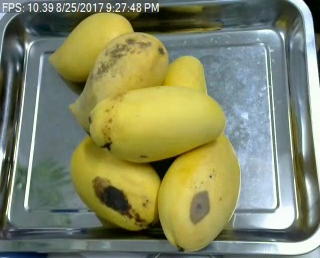Mango: (153, 128, 242, 253), (86, 84, 227, 162), (71, 31, 168, 131), (70, 132, 166, 230), (46, 13, 136, 84), (165, 55, 209, 101)
